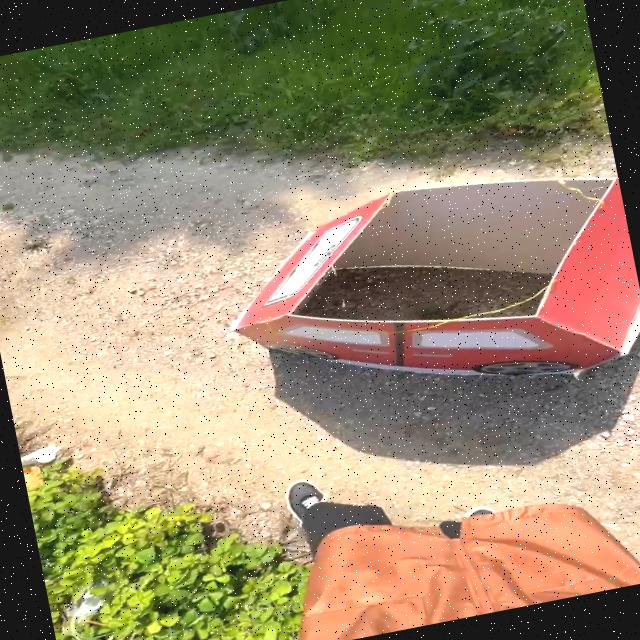red_car: (197, 145, 640, 461)
